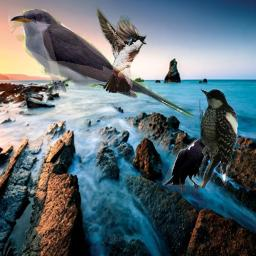Crow: (162, 137, 214, 196)
Cuckoo: (8, 9, 193, 120)
Swallow: (94, 5, 147, 93)
Woodpecker: (199, 88, 238, 188)
